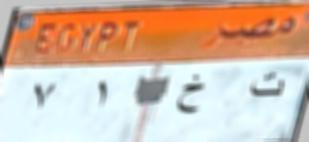1: (96, 78, 113, 113)
7: (30, 79, 57, 111)
khaa: (175, 71, 207, 117)
taa: (246, 67, 285, 102)
